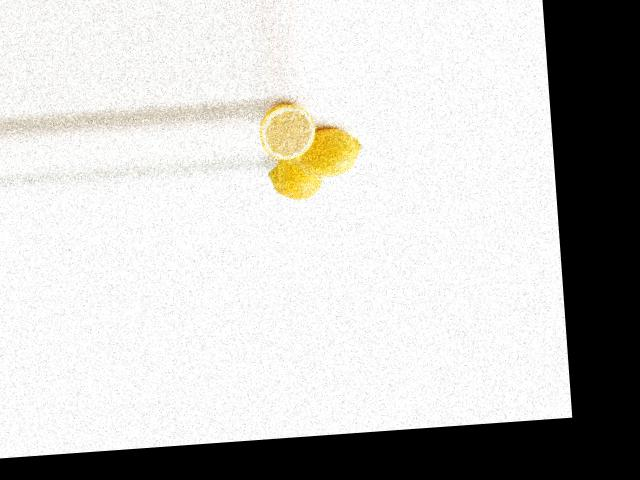lemon: (263, 155, 327, 203)
